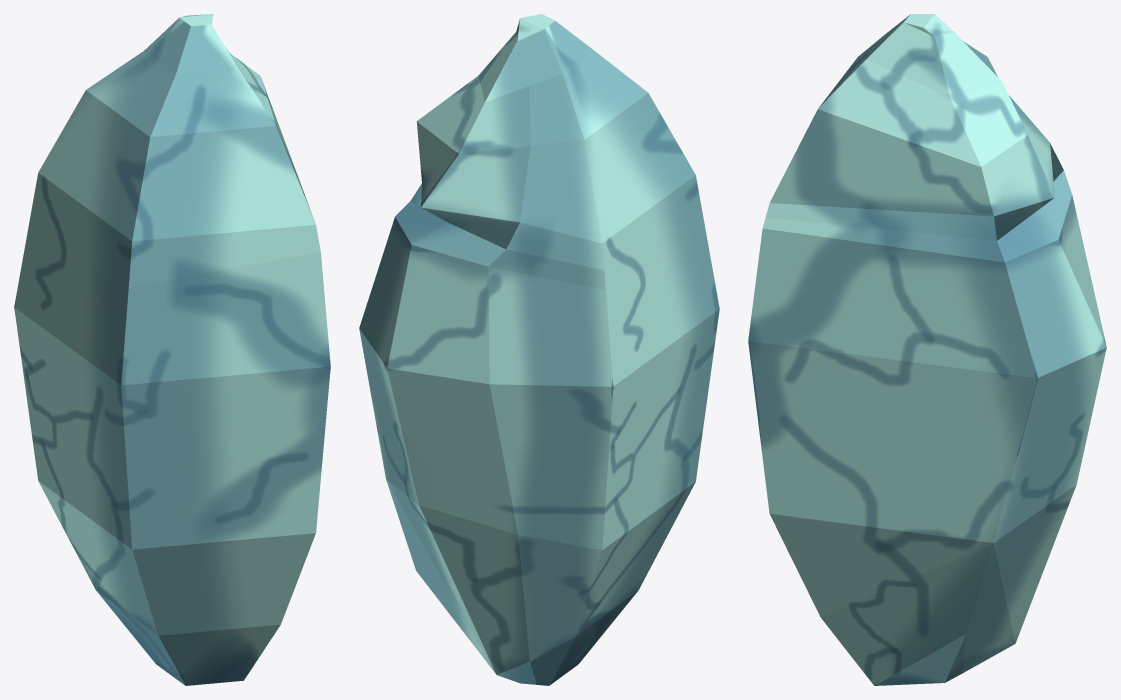
The model's file is Cristal.fbx.
The picture shows the model from 3 angles, left to right: view 1: azimuth 30°, elevation 25°; view 2: azimuth 150°, elevation 25°; view 3: azimuth 270°, elevation 25°; orthographic projection.
Visible parts, largest first — view 1: pCylinder1; view 2: pCylinder1; view 3: pCylinder1.
Part boxes in pixels (x1,y1,x2,y2): pCylinder1: (14,14,330,685); pCylinder1: (359,14,719,685); pCylinder1: (748,14,1106,685).
Size of the model in its own units: 80.35 by 198 by 98.3.
